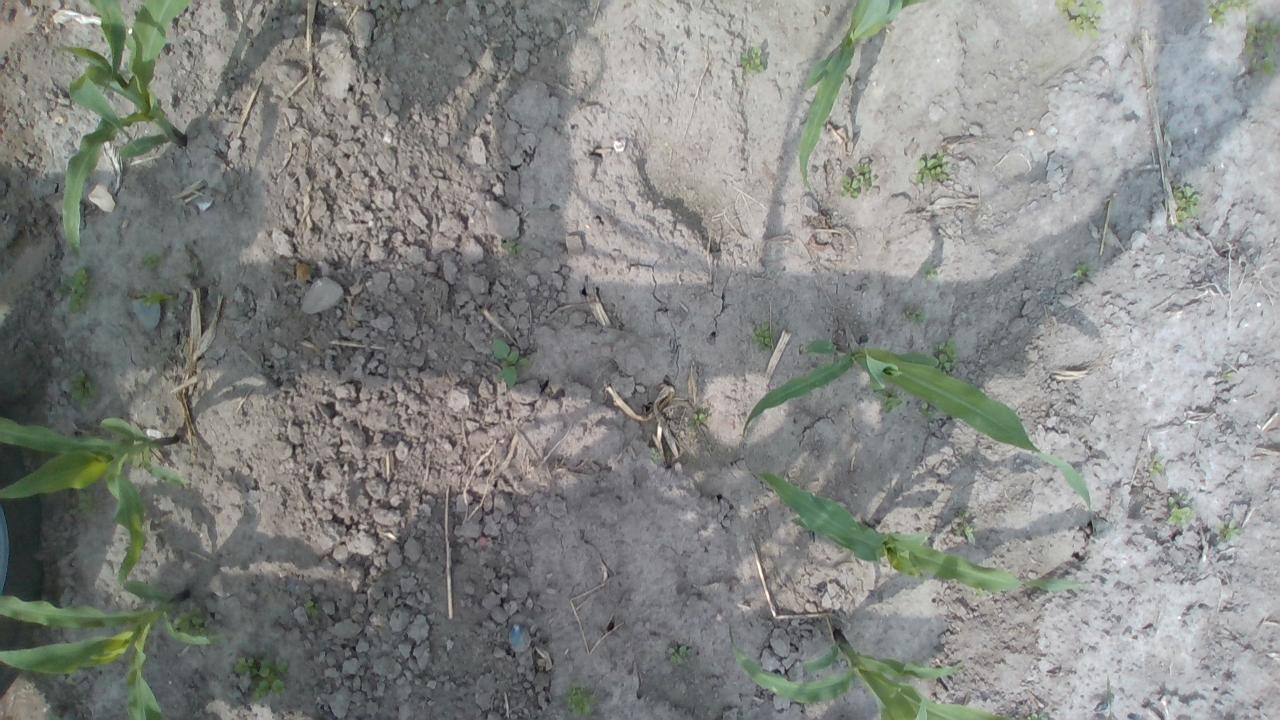Maize: (741, 336, 1098, 530), (746, 466, 1091, 600), (56, 0, 190, 265), (0, 410, 181, 594), (0, 576, 224, 720), (726, 621, 1010, 720), (799, 0, 920, 204)
Weeds: (232, 652, 288, 700), (1051, 0, 1105, 41), (57, 266, 99, 318), (490, 336, 528, 386), (66, 368, 103, 413), (840, 158, 873, 200), (1170, 183, 1200, 229), (1243, 14, 1280, 51), (912, 152, 952, 185), (1206, 0, 1256, 26), (566, 680, 598, 720), (172, 606, 212, 636), (932, 338, 959, 376), (1166, 492, 1194, 528), (76, 488, 107, 520), (739, 44, 766, 75), (750, 322, 775, 351), (138, 249, 168, 272), (1248, 56, 1278, 78), (878, 387, 902, 413), (1214, 519, 1239, 543), (142, 288, 170, 307), (954, 522, 976, 546), (904, 306, 928, 327), (668, 642, 686, 664), (685, 410, 705, 428), (1071, 260, 1088, 280), (1148, 461, 1168, 478), (505, 239, 523, 257), (919, 400, 938, 417), (302, 600, 322, 616), (922, 262, 938, 282), (1026, 712, 1046, 720), (958, 510, 971, 519), (1222, 370, 1232, 381)
